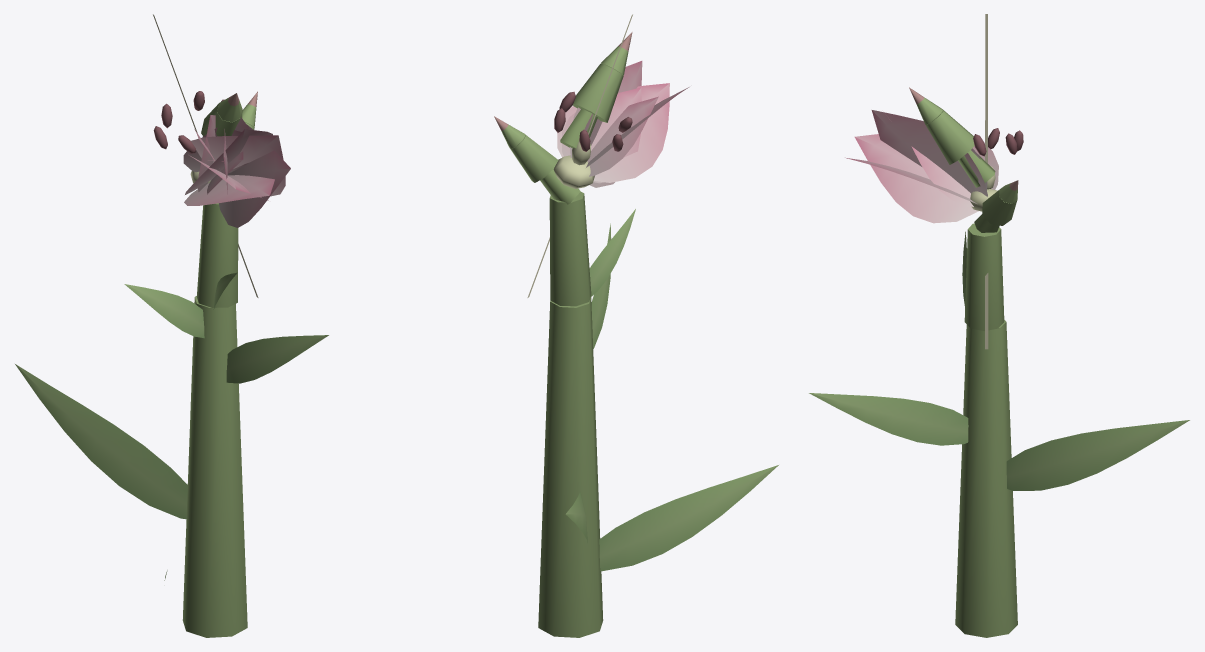
The model's file is lily.glb.
3 views of the same model, side by side, from view 1: azimuth 30°, elevation 25°; view 2: azimuth 150°, elevation 25°; view 3: azimuth 270°, elevation 25° (orthographic). The views are drawn at different scales.
Visible parts, largest first — view 1: lily; view 2: lily; view 3: lily.
Boxes of the visible parts, left/top/right/bottom form: lily: left=15, top=14, right=328, bottom=637; lily: left=494, top=14, right=778, bottom=637; lily: left=809, top=14, right=1189, bottom=637.
Size of the model in its own units: 0.2 by 0.6152 by 0.3662.
